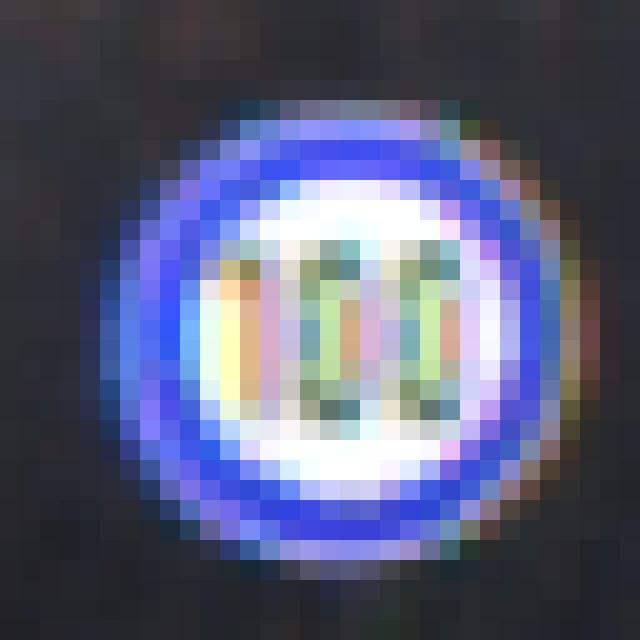SPEED LIMIT 100: (104, 106, 584, 562)
